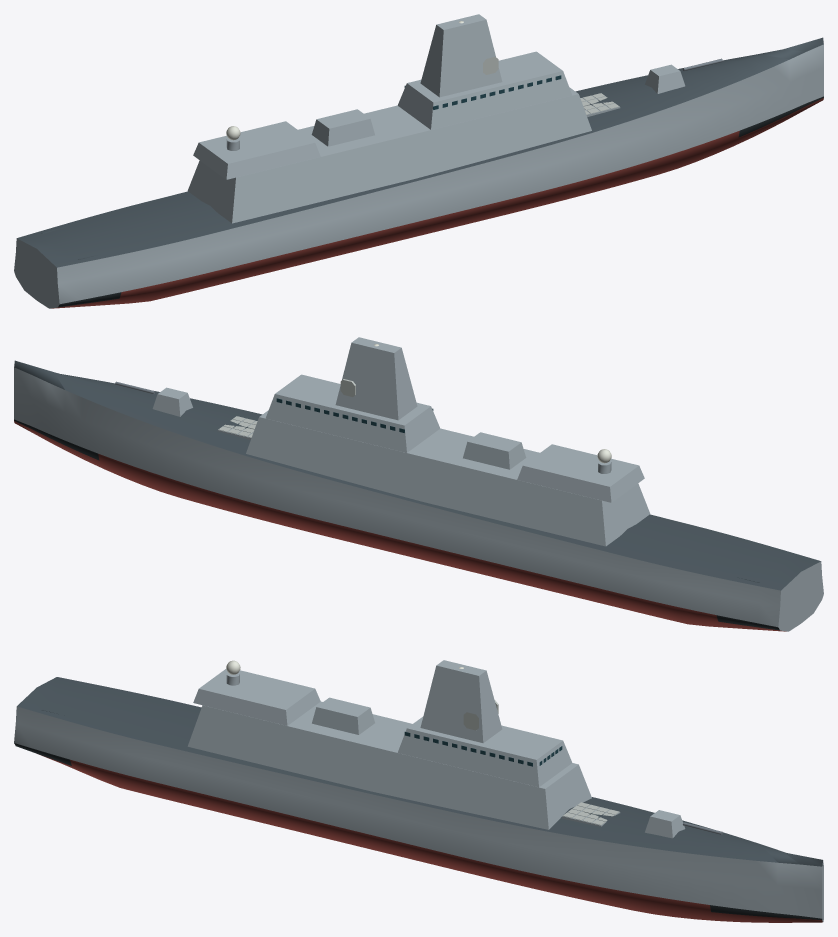
The model's file is jmsdf_ffm_mogami.glb.
3 renders of one model, top to bottom at view 1: azimuth 30°, elevation 25°; view 2: azimuth 150°, elevation 25°; view 3: azimuth 330°, elevation 25°, orthographic.
Visible parts, largest first — view 1: naval_paint, deck_non_skid, antifouling, boot_topping, array_face; view 2: naval_paint, deck_non_skid, antifouling, boot_topping, array_face; view 3: naval_paint, deck_non_skid, antifouling, array_face, boot_topping.
Boxes of the visible parts, x1,y1,x2,y2 form: naval_paint: [14, 14, 823, 308]; deck_non_skid: [17, 37, 823, 267]; antifouling: [51, 98, 823, 308]; boot_topping: [58, 96, 823, 307]; array_face: [483, 56, 619, 114]; naval_paint: [14, 337, 823, 631]; deck_non_skid: [14, 360, 820, 590]; antifouling: [14, 421, 786, 631]; boot_topping: [14, 419, 779, 630]; array_face: [218, 379, 355, 437]; naval_paint: [14, 660, 823, 921]; deck_non_skid: [17, 677, 822, 866]; antifouling: [39, 754, 822, 922]; array_face: [463, 700, 618, 824]; boot_topping: [14, 743, 822, 919].
Size of the model in its own units: 10 by 2.33 by 1.23.
